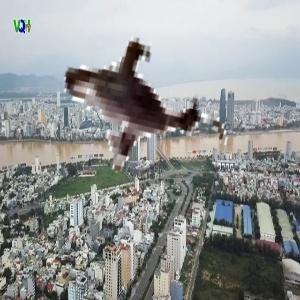drone: (11, 3, 237, 229)
